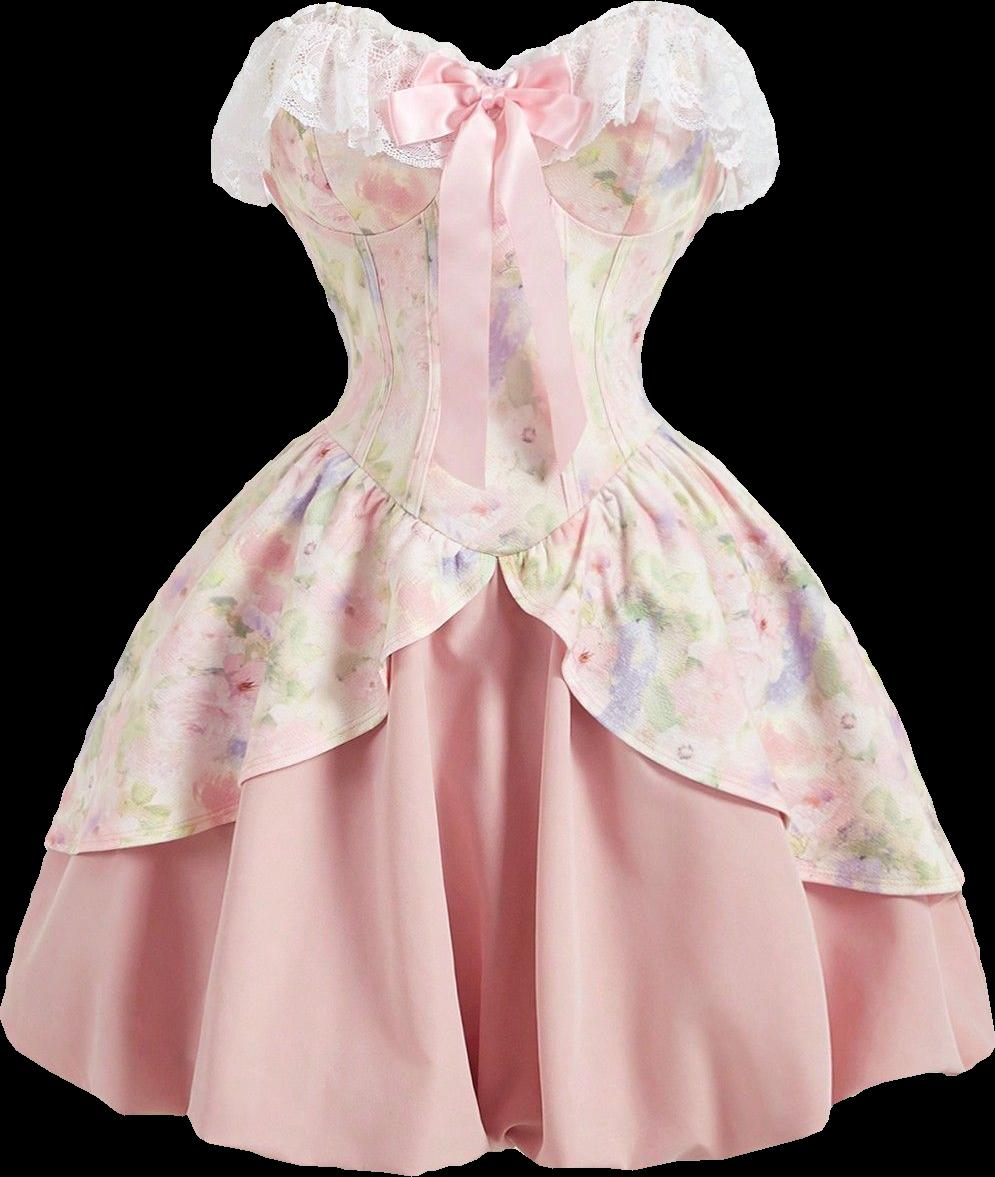Bodice: (210, 1, 779, 562)
Hemline: (493, 554, 970, 904), (0, 1012, 994, 1175), (40, 560, 506, 861)
Neckline: (234, 0, 754, 83)
Skirt: (0, 426, 994, 1174)
Waistline: (311, 413, 671, 571), (205, 102, 775, 188)
